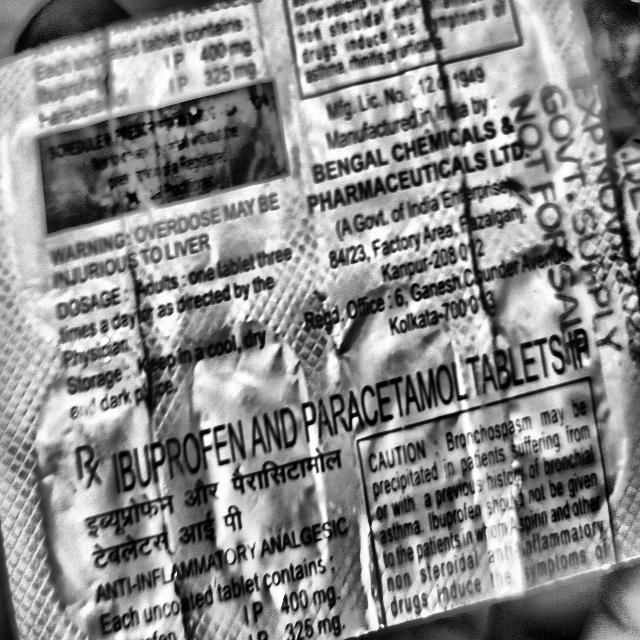IBUPROFEN AND PARACETAMOL TABLETS: (90, 305, 607, 520)
